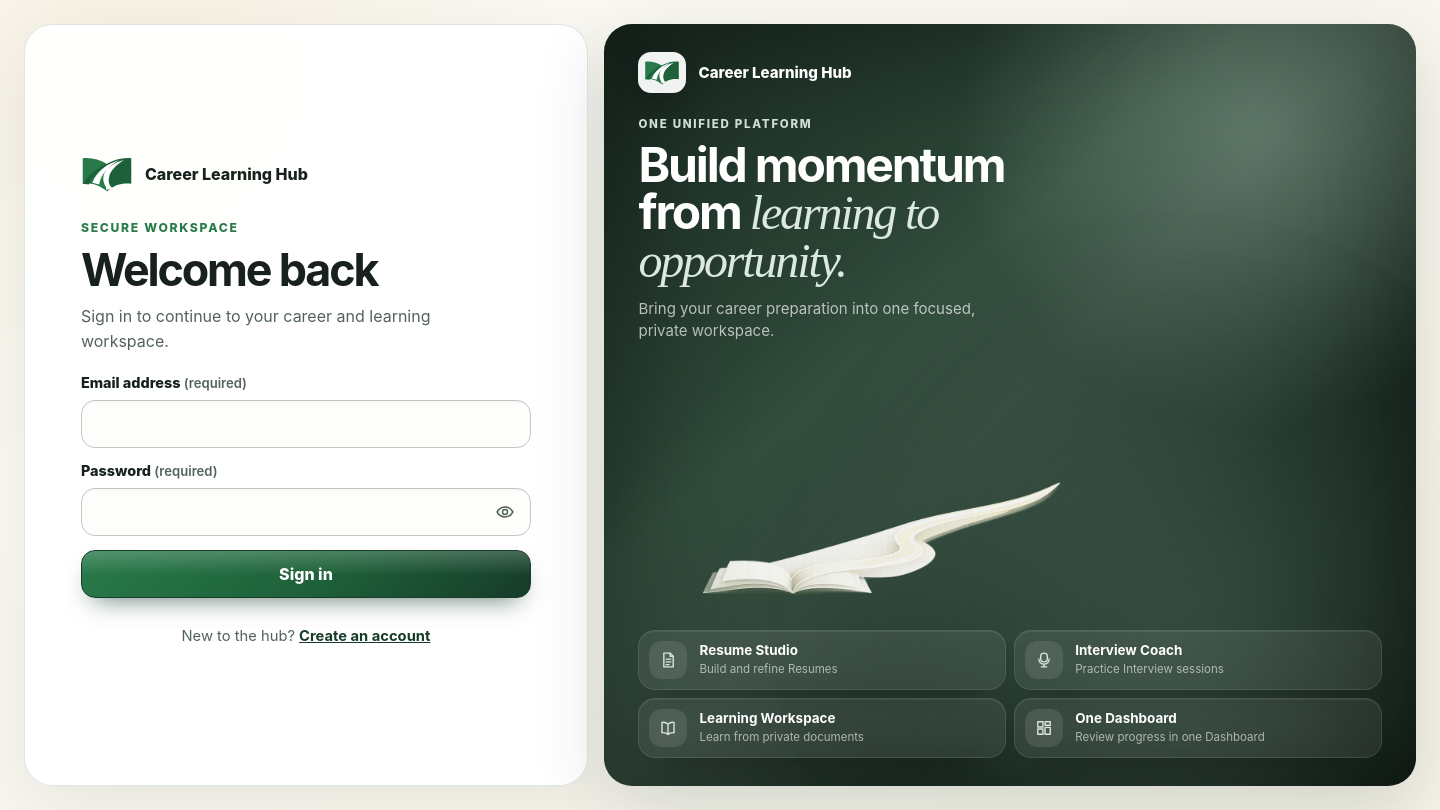
Test: Phase 19E authentication form contract › focuses Login API errors, keeps Request ID collapsed, and clears stale errors on edit
Check: the heading "Welcome back" is shown, box [81,243,377,297]
Type "phase19e@example.test" into the field labelled "Email address" at (306, 424), box [81,400,531,448]
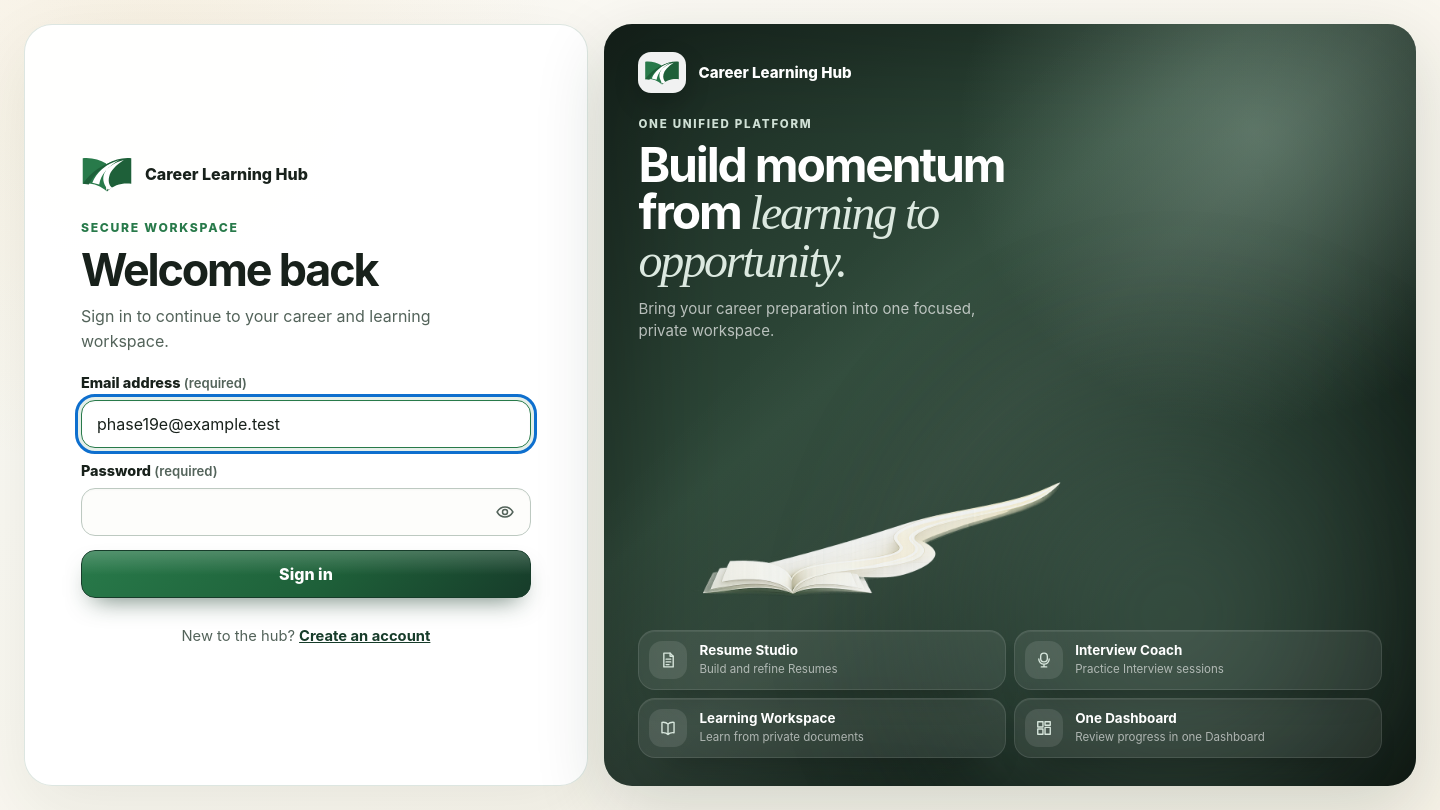
Type "SyntheticPassword1" into the password field labelled "Password" at (306, 512), box [81,488,531,536]
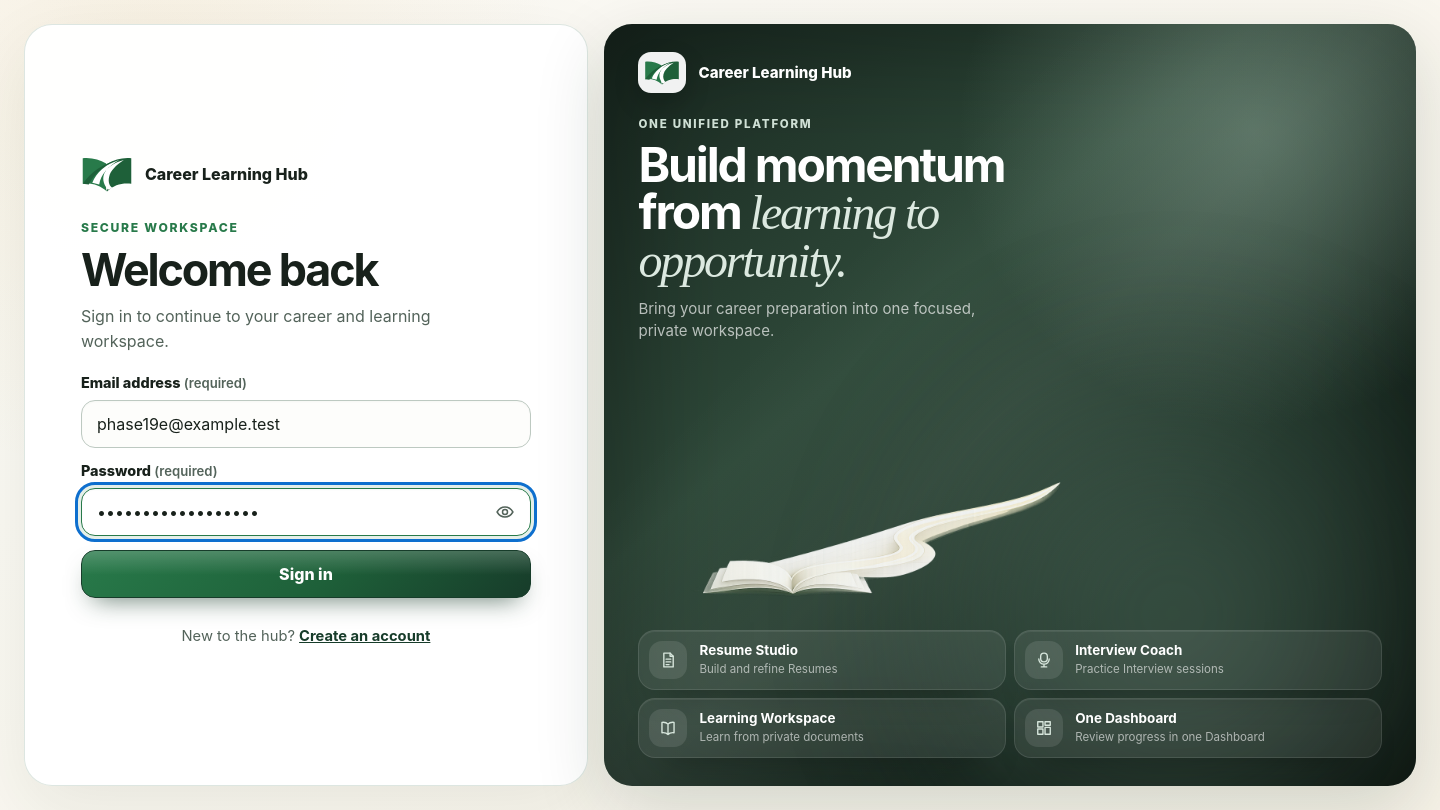
Click the button "Sign in" at (306, 574), box [81,550,531,598]
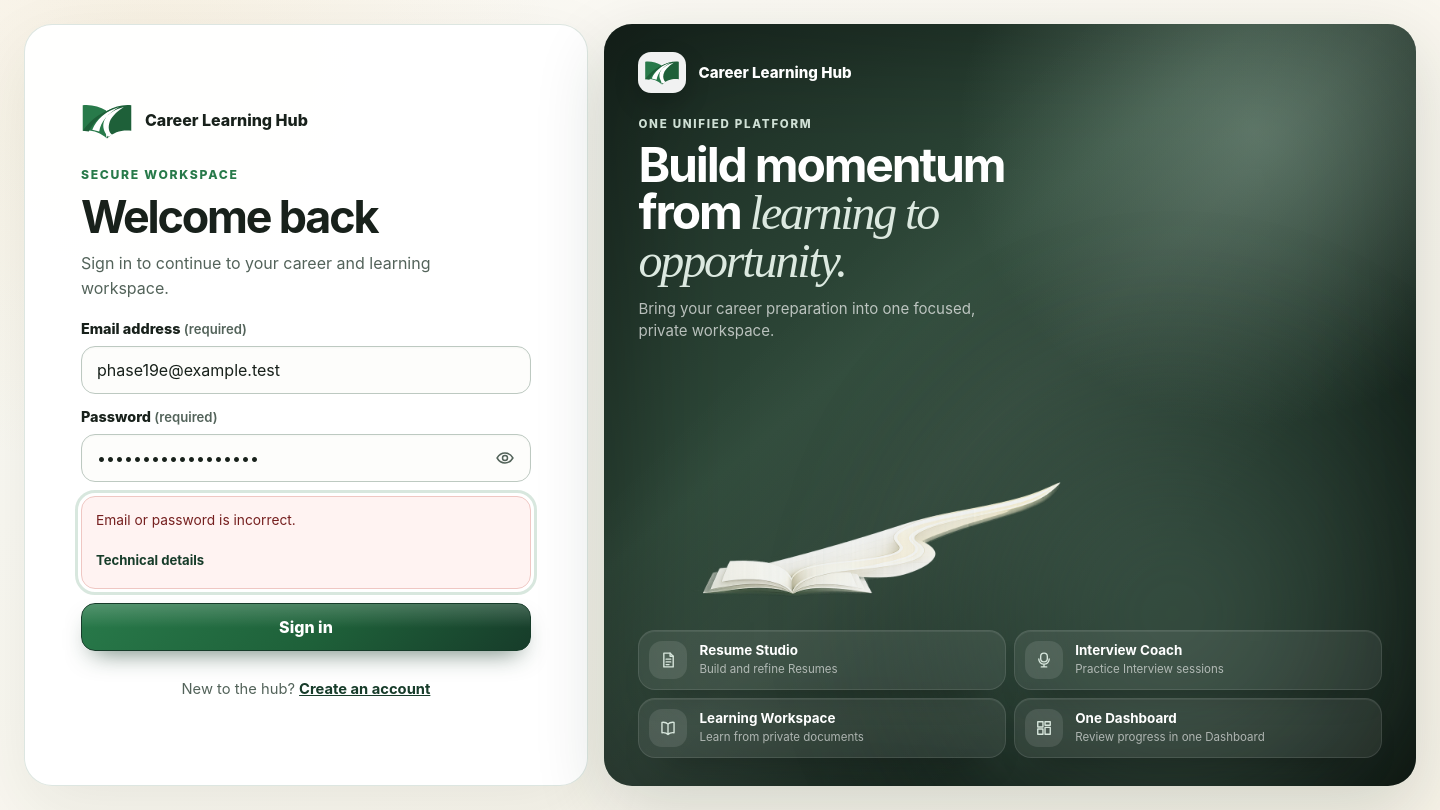
Click the heading "Technical details" at (150, 560), box [96,552,204,568]
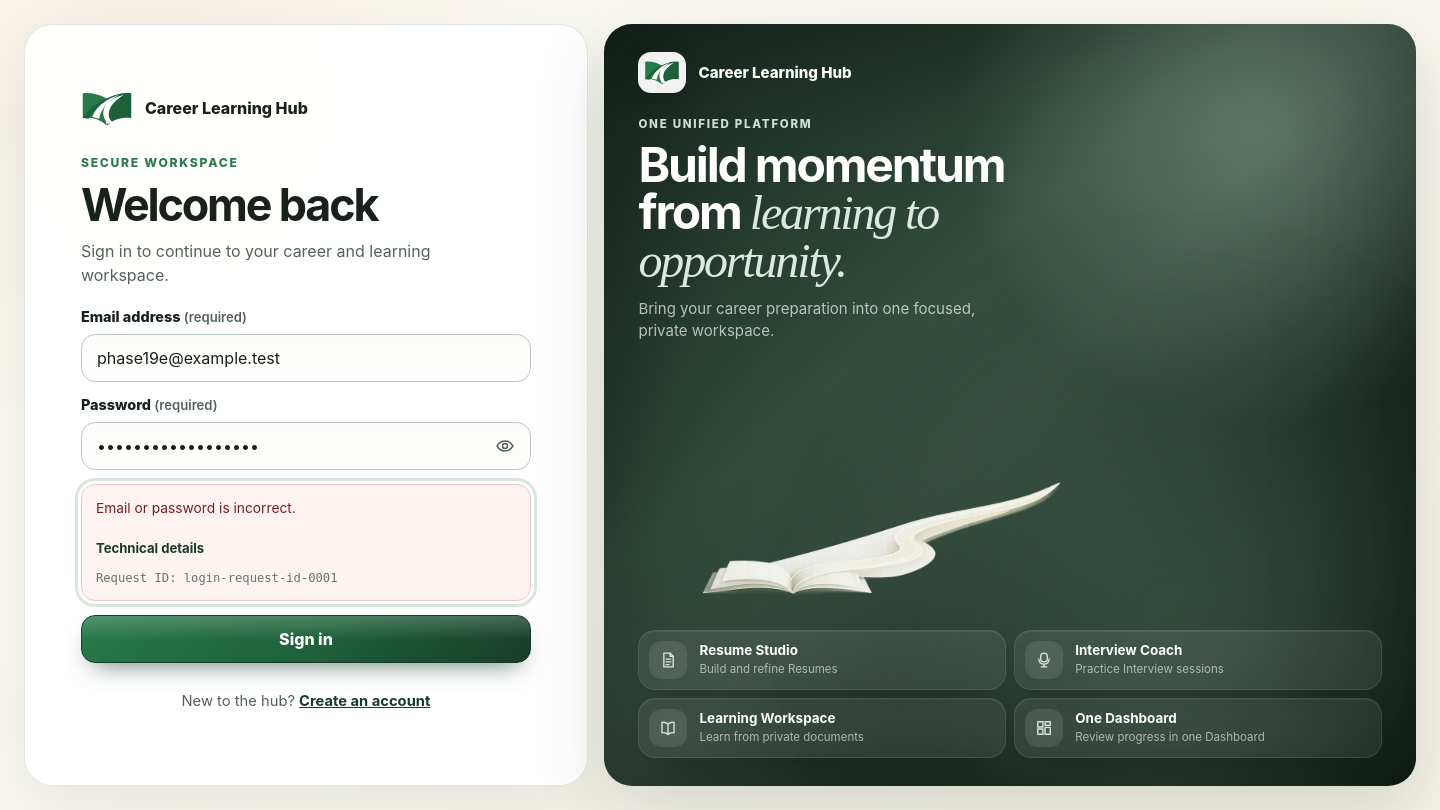
Type "x" into the field labelled "Email address" at (306, 358), box [81,334,531,382]
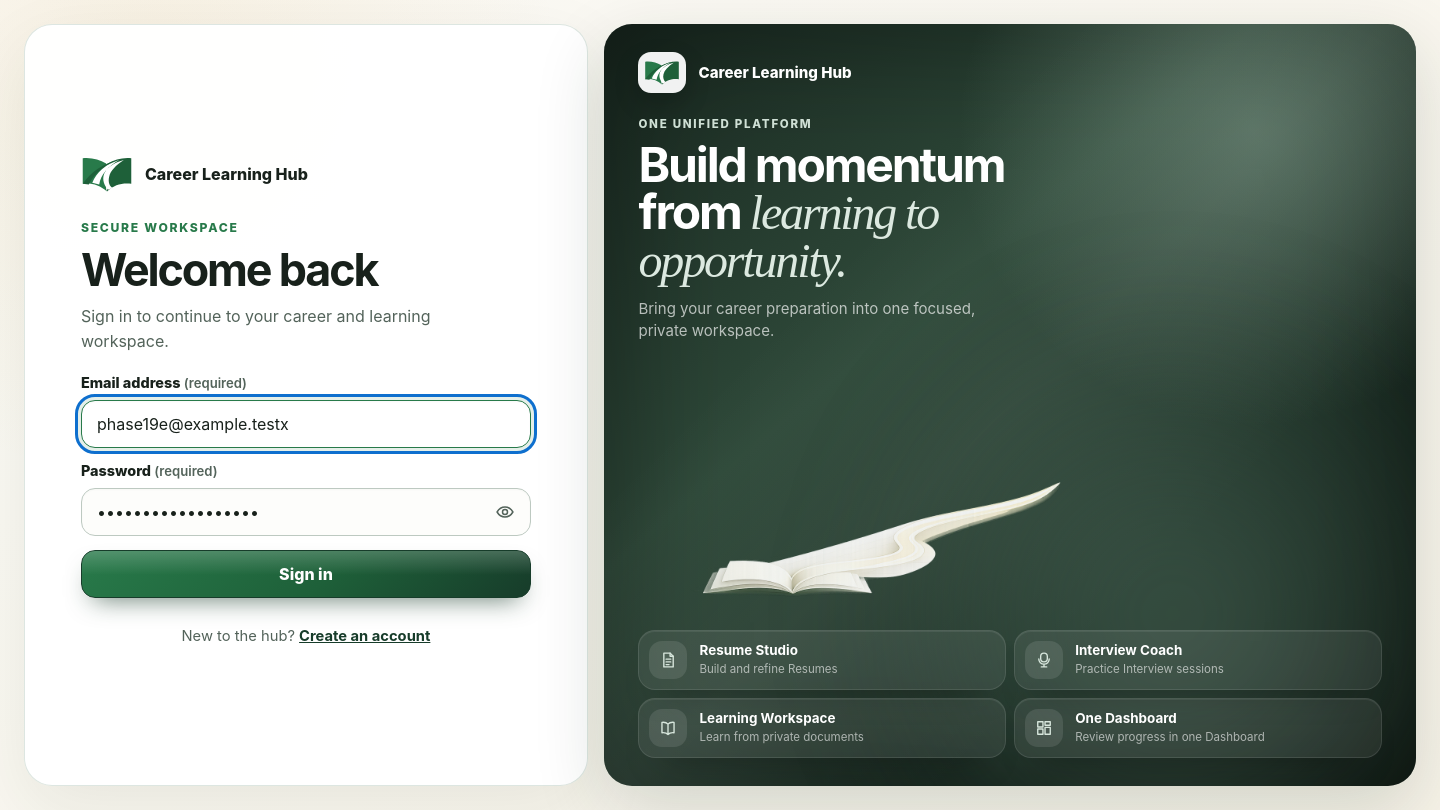
Check: the text "Email or password is incorrect." is gone
Check: the heading "Technical details" is gone
